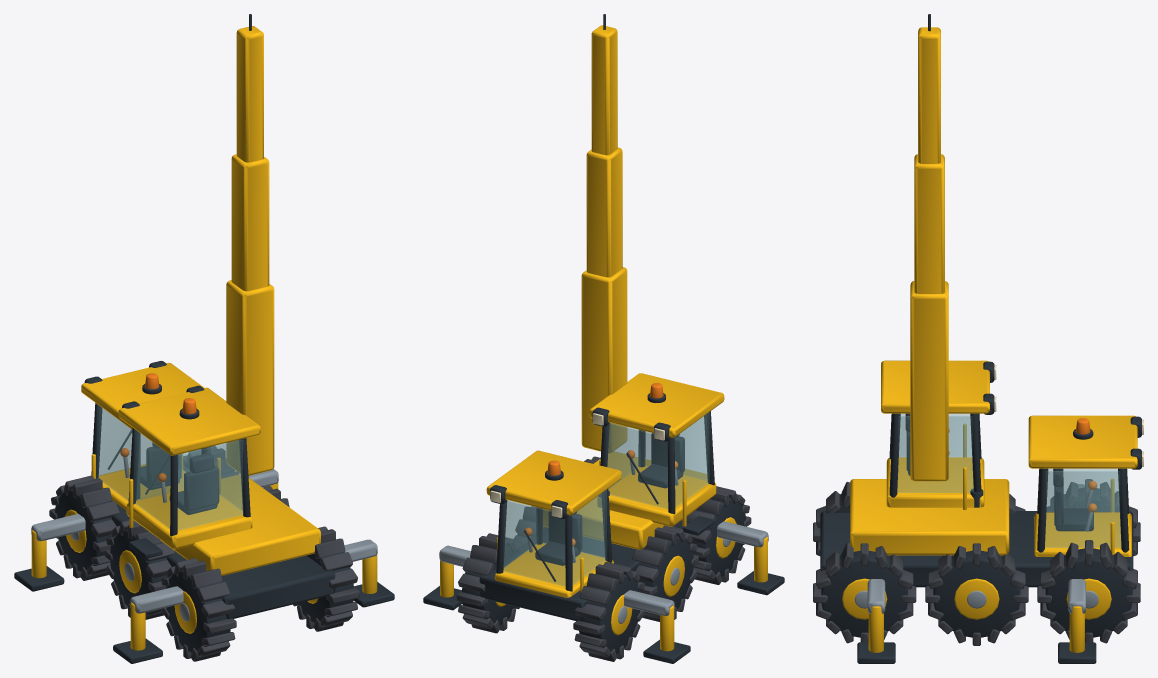
Rendered from crane.glb.
The picture shows the model from 3 angles, left to right: view 1: azimuth 30°, elevation 25°; view 2: azimuth 150°, elevation 25°; view 3: azimuth 270°, elevation 25°; orthographic projection. The views are drawn at different scales.
Visible parts, largest first — view 1: telescoping section, cab sill.004, side glazing.006, chassis.001, headlight housing.008, cab sill.003, tread block.096, tread block.064, tread block.144, side glazing.004, tread block.080, tire.006 (+12 smaller); view 2: telescoping section, cab sill.004, cab sill.003, chassis.001, side glazing.004, side glazing.006, headlight housing.008, tread block.064, tread block.112, tread block.080, tread block.096, tire.004 (+10 smaller); view 3: cab sill.004, telescoping section, cab sill.003, chassis.001, side glazing.004, tire.008, tire.009, tire.007, side glazing.006, tread block.112, tread block.128, tread block.144 (+12 smaller).
Part boxes in pixels (<box>): telescoping section: <box>226,26,274,475</box>; cab sill.004: <box>118,387,320,575</box>; side glazing.006: <box>134,429,243,530</box>; chassis.001: <box>84,361,335,618</box>; headlight housing.008: <box>122,385,250,558</box>; cab sill.003: <box>81,362,204,510</box>; tread block.096: <box>161,558,236,661</box>; tread block.064: <box>49,475,119,580</box>; tread block.144: <box>293,526,359,631</box>; side glazing.004: <box>96,405,132,500</box>; tread block.080: <box>104,520,174,619</box>; tire.006: <box>166,569,230,652</box>; telescoping section: <box>581,25,627,452</box>; cab sill.004: <box>543,373,724,549</box>; cab sill.003: <box>486,450,621,597</box>; chassis.001: <box>479,485,688,621</box>; side glazing.004: <box>503,490,606,586</box>; side glazing.006: <box>606,413,709,508</box>; headlight housing.008: <box>592,407,714,535</box>; tread block.064: <box>573,562,644,661</box>; tread block.112: <box>456,533,523,633</box>; tread block.080: <box>632,525,698,621</box>; tread block.096: <box>686,486,751,584</box>; tire.004: <box>579,574,640,653</box>; cab sill.004: <box>850,360,1009,555</box>; telescoping section: <box>910,27,948,481</box>; cab sill.003: <box>1028,415,1137,556</box>; chassis.001: <box>820,416,1141,587</box>; side glazing.004: <box>1045,469,1121,547</box>; tire.008: <box>933,550,1020,637</box>; tire.009: <box>821,550,907,637</box>; tire.007: <box>1045,548,1132,637</box>; side glazing.006: <box>897,414,973,492</box>; tread block.112: <box>1037,540,1140,643</box>; tread block.128: <box>925,543,1028,645</box>; tread block.144: <box>813,542,916,643</box>.
Bounding box in the file's own units: 5.25 × 11.64 × 5.61.
